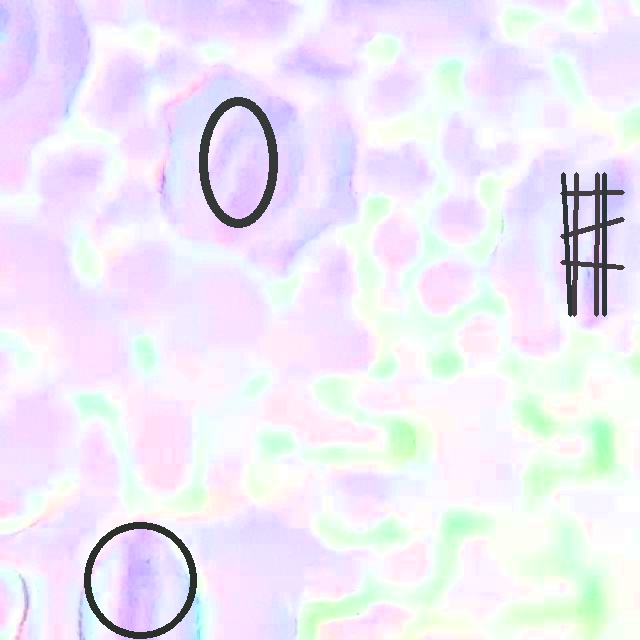open: (83, 523, 196, 638), (199, 96, 278, 228), (560, 173, 623, 316)
